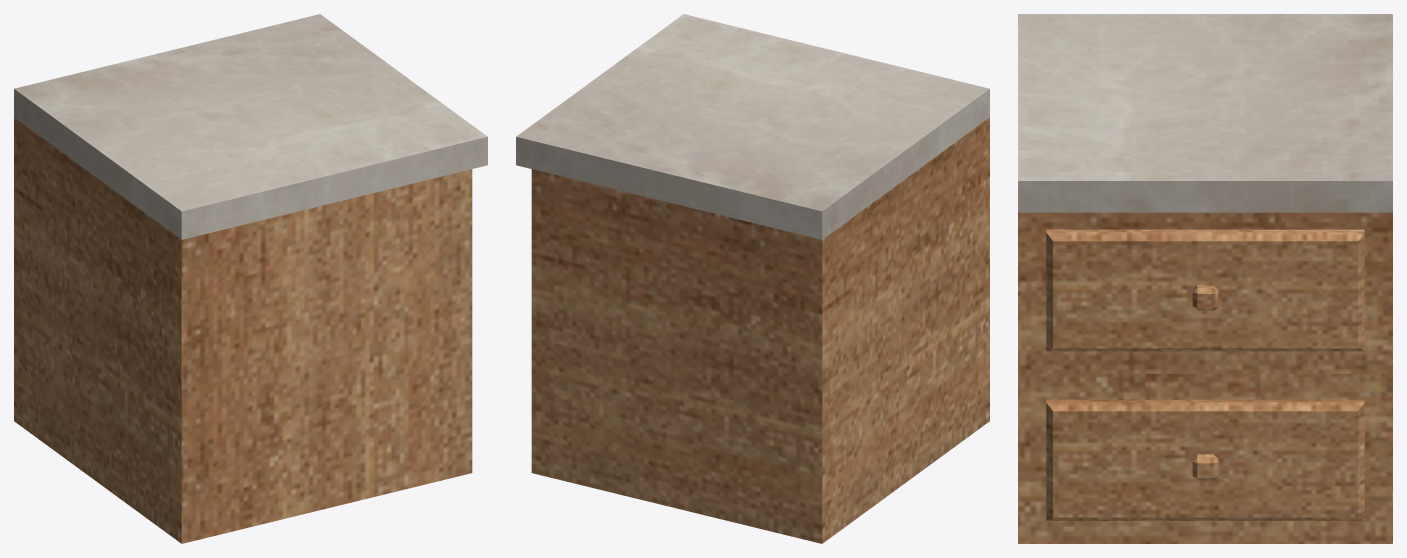
Rendered from counter.fbx.
The picture shows the model from 3 angles, left to right: view 1: azimuth 30°, elevation 25°; view 2: azimuth 150°, elevation 25°; view 3: azimuth 270°, elevation 25°; orthographic projection. The views are drawn at different scales.
Parts seen in each view (by area): view 1: counter; view 2: counter; view 3: counter.
Part boxes in pixels (x1,y1,x2,y2): counter: (14,14,487,543); counter: (516,14,989,543); counter: (1018,14,1392,543).
Bounding box in the file's own units: 430 × 442 × 404.
